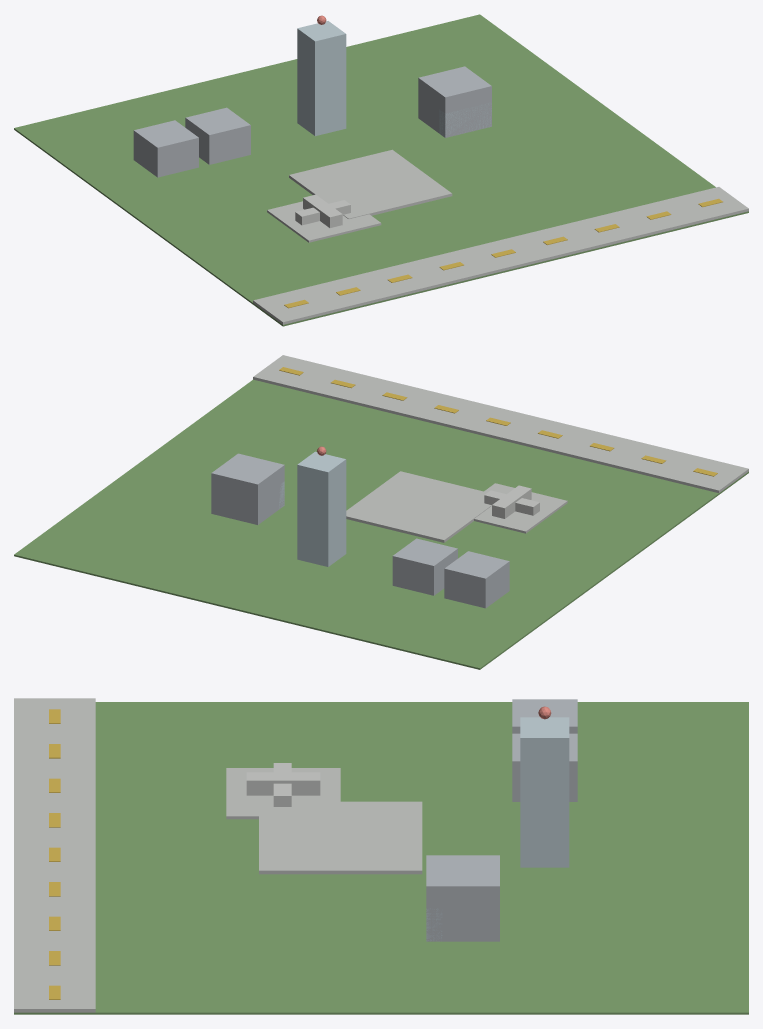
Rendered from stage_06.glb.
The picture shows the model from 3 angles, top to bottom: view 1: azimuth 30°, elevation 25°; view 2: azimuth 150°, elevation 25°; view 3: azimuth 270°, elevation 25°; orthographic projection. The views are drawn at different scales.
Parts seen in each view (by area): view 1: geometry_0; view 2: geometry_0; view 3: geometry_0.
Boxes of the visible parts, x1,y1,x2,y2 form: geometry_0: [14, 14, 748, 326]; geometry_0: [14, 355, 748, 669]; geometry_0: [14, 698, 748, 1014].
Bounding box in the file's own units: 9 × 2.06 × 9.
